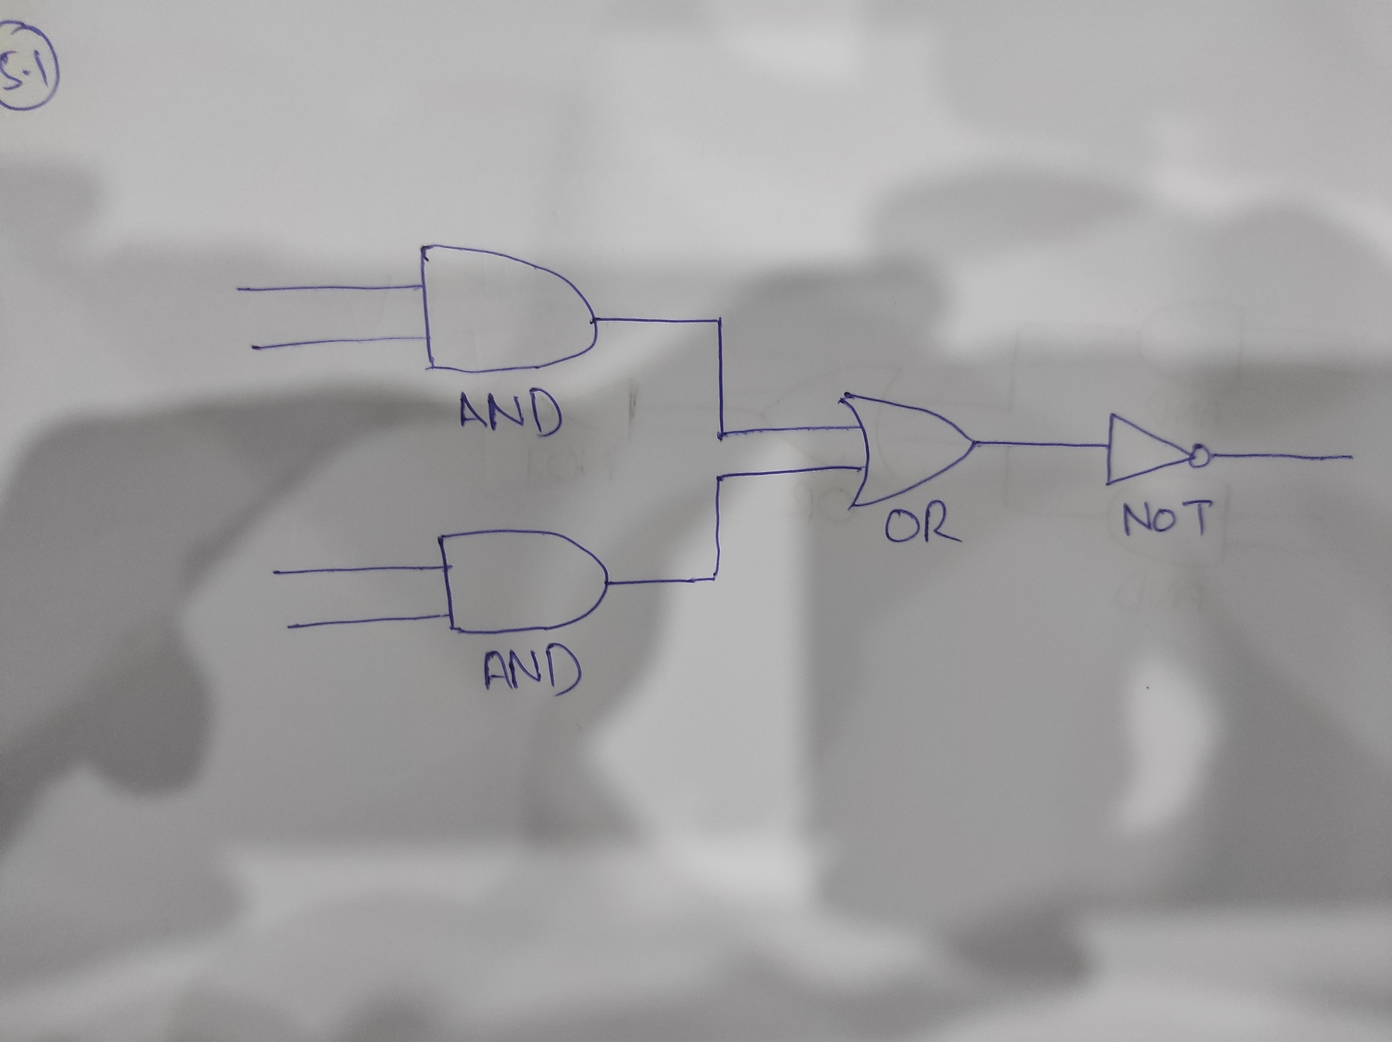and: (414, 235, 598, 382), (431, 522, 605, 640)
junction: (703, 563, 728, 592), (707, 309, 732, 334), (710, 424, 733, 445), (709, 468, 727, 486)
not: (1101, 409, 1219, 489)
or: (835, 387, 981, 510)
terminal: (1329, 445, 1365, 473), (264, 565, 285, 580), (280, 620, 300, 634), (230, 281, 250, 296), (247, 340, 263, 356)
text: (475, 639, 584, 703), (454, 384, 564, 438), (1121, 494, 1218, 539), (882, 497, 965, 546)
